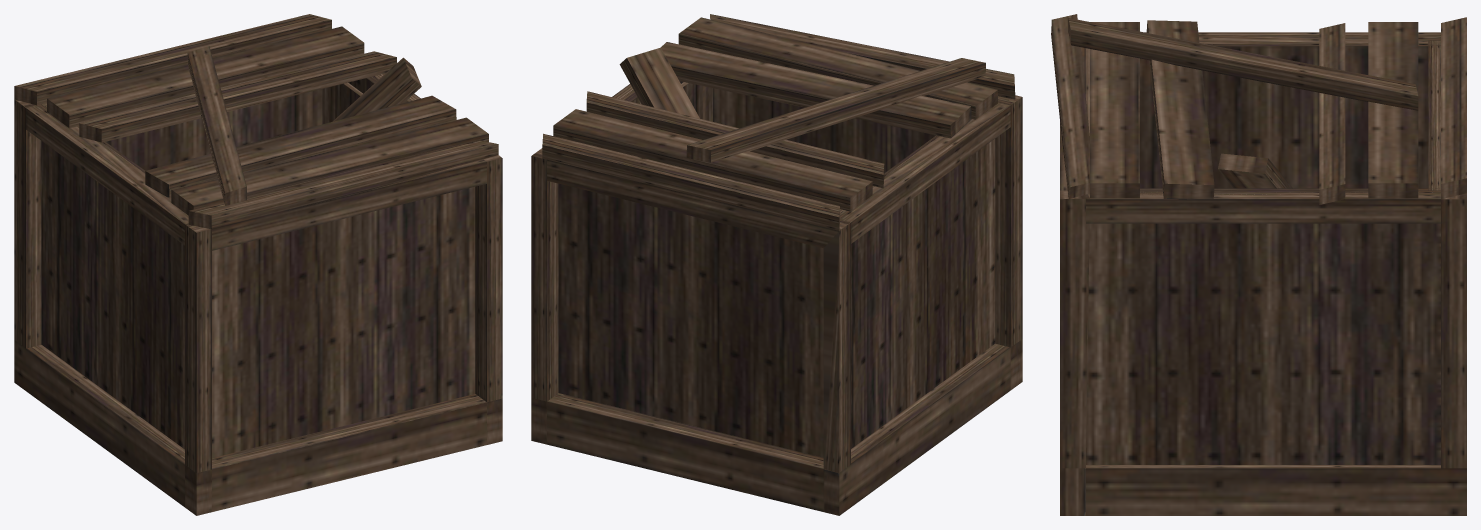
File: caja.fbx
3 views of the same model, side by side, from view 1: azimuth 30°, elevation 25°; view 2: azimuth 150°, elevation 25°; view 3: azimuth 270°, elevation 25° (orthographic). The views are drawn at different scales.
Parts seen in each view (by area): view 1: Crate; view 2: Crate; view 3: Crate.
Boxes of the visible parts, <box> form: Crate: <box>14,14,502,515</box>; Crate: <box>531,14,1022,515</box>; Crate: <box>1051,14,1466,515</box>.
Size of the model in its own units: 215 by 205 by 218.
